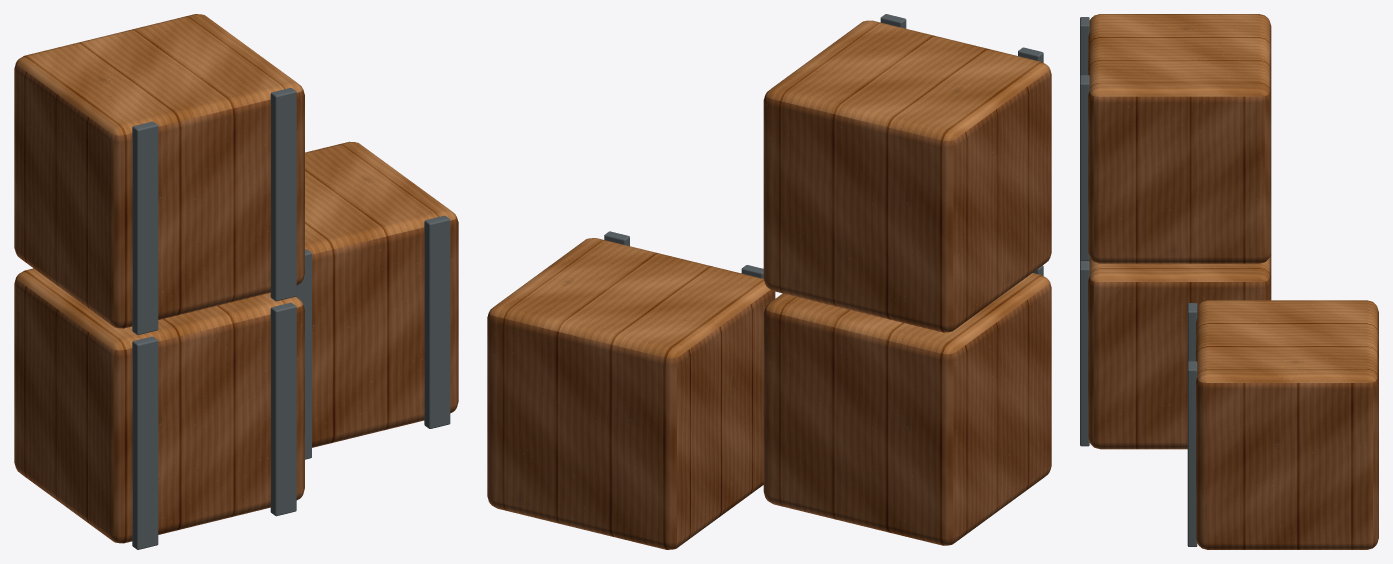
File: supplies.glb
3 views of the same model, side by side, from view 1: azimuth 30°, elevation 25°; view 2: azimuth 150°, elevation 25°; view 3: azimuth 270°, elevation 25° (orthographic). The views are drawn at different scales.
Visible parts, largest first — view 1: Supply crate.001, Supply crate, Supply crate.002, Crate strap.002, Crate strap.005, Crate strap, Crate strap.001, Crate strap.003, Crate strap.004; view 2: Supply crate.001, Supply crate.002, Supply crate; view 3: Supply crate.001, Supply crate.002, Supply crate, Crate strap.005, Crate strap.003, Crate strap.001, Crate strap.004, Crate strap.002.
Part boxes in pixels (x1=…): Supply crate.001: x1=14, y1=14, x2=304, y2=328; Supply crate: x1=14, y1=268, x2=304, y2=543; Supply crate.002: x1=305, y1=141, x2=458, y2=447; Crate strap.002: x1=132, y1=121, x2=158, y2=334; Crate strap.005: x1=424, y1=215, x2=450, y2=428; Crate strap: x1=132, y1=336, x2=158, y2=549; Crate strap.001: x1=270, y1=302, x2=296, y2=516; Crate strap.003: x1=270, y1=88, x2=296, y2=301; Crate strap.004: x1=296, y1=249, x2=311, y2=459; Supply crate.001: x1=763, y1=20, x2=1051, y2=332; Supply crate.002: x1=487, y1=238, x2=775, y2=549; Supply crate: x1=763, y1=273, x2=1051, y2=545; Supply crate.001: x1=1088, y1=14, x2=1271, y2=263; Supply crate.002: x1=1196, y1=300, x2=1378, y2=549; Supply crate: x1=1088, y1=252, x2=1271, y2=449; Crate strap.005: x1=1187, y1=361, x2=1197, y2=546; Crate strap.003: x1=1080, y1=75, x2=1089, y2=260; Crate strap.001: x1=1080, y1=261, x2=1089, y2=446; Crate strap.004: x1=1187, y1=303, x2=1197, y2=362; Crate strap.002: x1=1080, y1=17, x2=1089, y2=75.
Bounding box in the file's own units: 1.9 × 1.91 × 1.39.
Materials: 3 (2 with a texture image).
